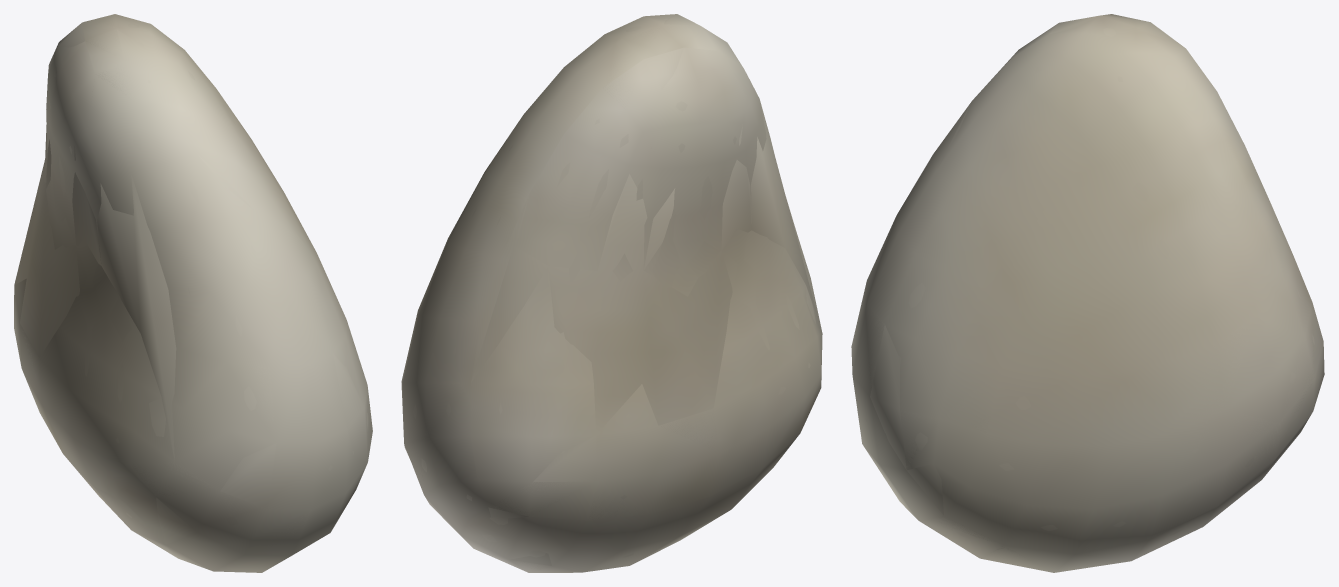
File: R tarsi secundum.fbx
3 renders of one model, left to right at view 1: azimuth 30°, elevation 25°; view 2: azimuth 150°, elevation 25°; view 3: azimuth 270°, elevation 25°, orthographic. The views are drawn at different scales.
Visible parts, largest first — view 1: R tarsi secundum, R tarsi secundum low, R tarsi secundum high; view 2: R tarsi secundum, R tarsi secundum low, R tarsi secundum high; view 3: R tarsi secundum, R tarsi secundum low, R tarsi secundum high.
Boxes of the visible parts, <box> form: R tarsi secundum: <box>14,14,372,572</box>; R tarsi secundum low: <box>14,14,367,572</box>; R tarsi secundum high: <box>30,23,368,525</box>; R tarsi secundum: <box>401,14,822,572</box>; R tarsi secundum low: <box>405,14,821,571</box>; R tarsi secundum high: <box>410,18,815,557</box>; R tarsi secundum: <box>851,14,1324,572</box>; R tarsi secundum low: <box>868,15,1314,570</box>; R tarsi secundum high: <box>865,27,1314,538</box>.
Bounding box in the file's own units: 0.2501 × 0.4718 × 0.3987.
Materials: 1 (1 with a texture image).
